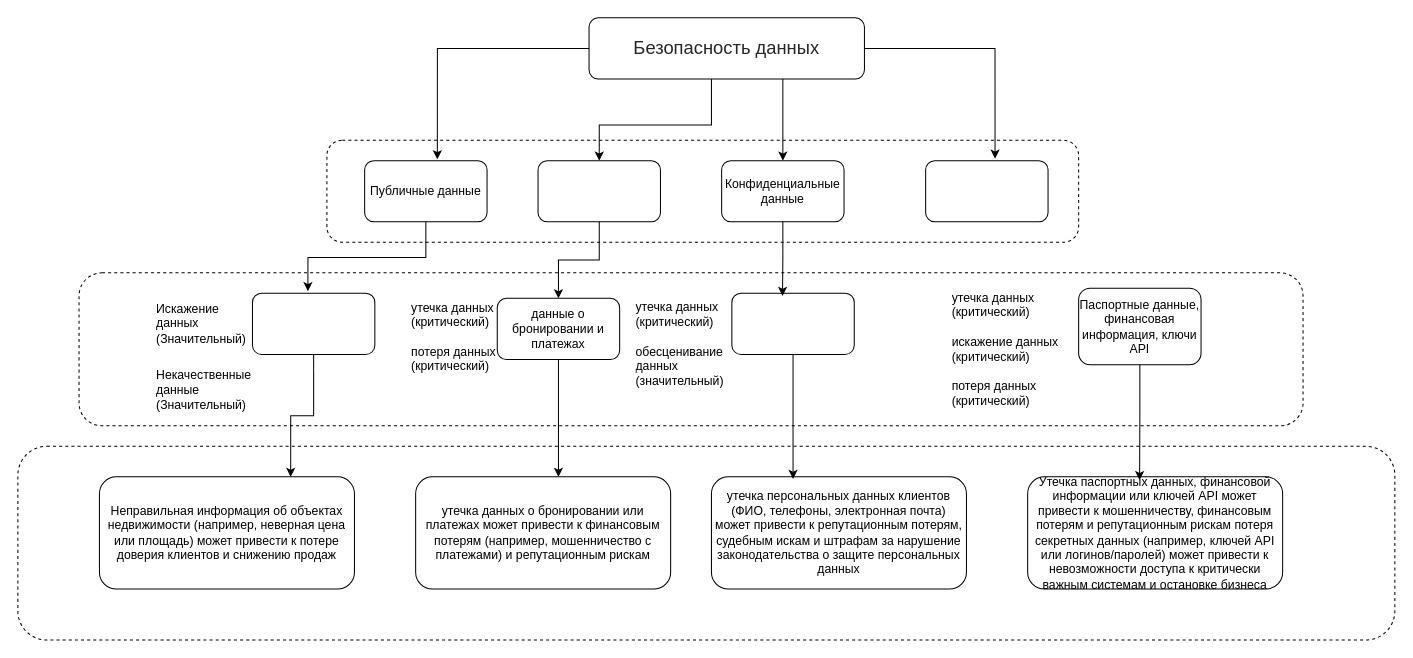
The diagram is 1413 pixels wide and 658 high, and some of its shapes have lost their labels. The box of each missing label's shape, as (x1, y1, x2, y2) in pixels:
Внутренние данные: (537, 160, 660, 222)
Информация об объектах недвижимости: (251, 292, 375, 354)
личные данные клиентов: (731, 292, 854, 354)
секретные данные: (925, 160, 1048, 222)
